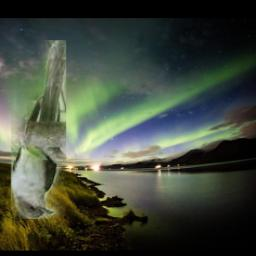Cuckoo: (12, 41, 67, 220)
